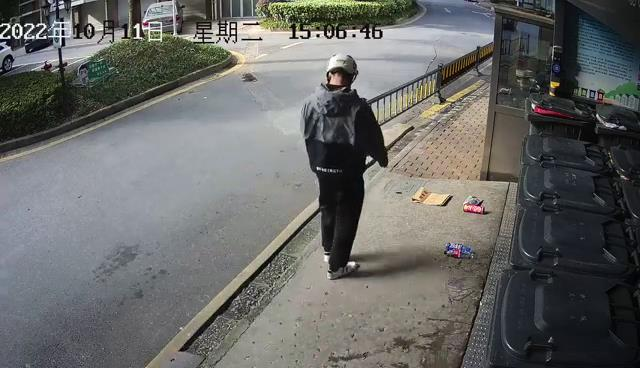lvzhipin: (443, 239, 476, 258), (462, 201, 486, 215)
person: (299, 51, 389, 281)
zhizhipin: (409, 184, 453, 207)
